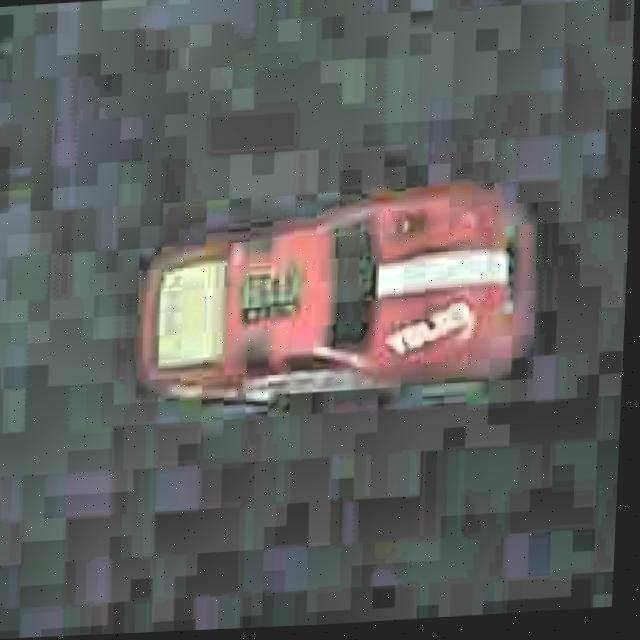car: (122, 172, 550, 430)
